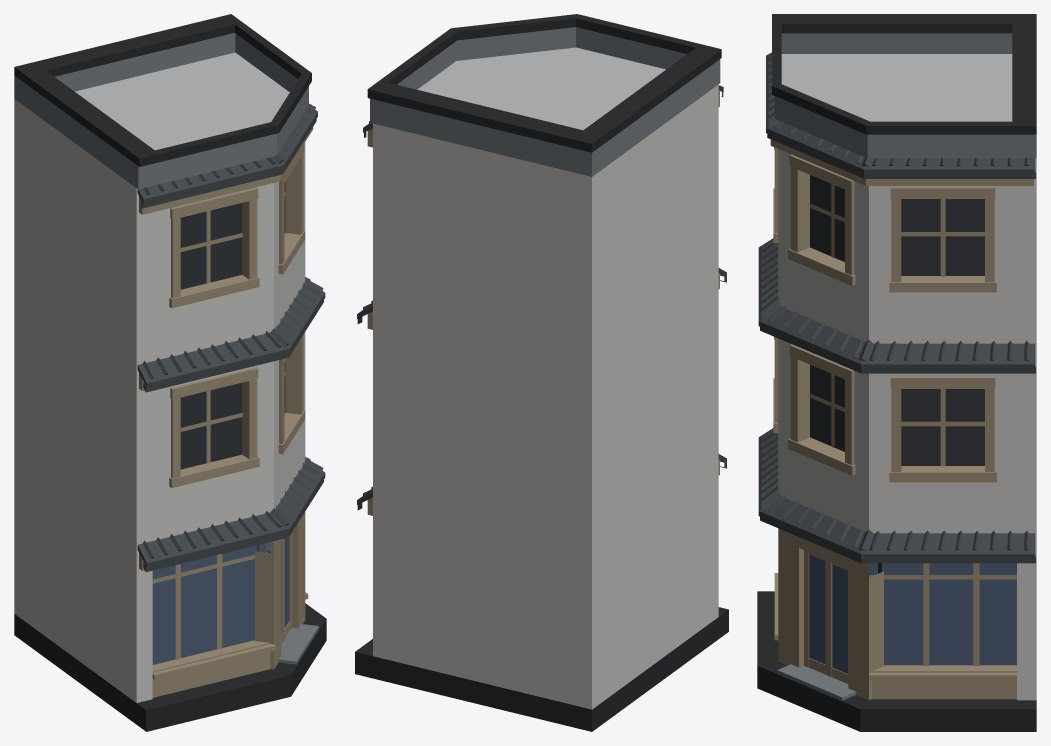
Rendered from corner-shophouse-ad15c2.glb.
The picture shows the model from 3 angles, left to right: view 1: azimuth 30°, elevation 25°; view 2: azimuth 150°, elevation 25°; view 3: azimuth 270°, elevation 25°; orthographic projection. The views are drawn at different scales.
Visible parts, largest first — view 1: shophouse-shell, door-r-leaf; view 2: shophouse-shell; view 3: shophouse-shell, door-l-leaf, door-r-leaf.
Boxes of the visible parts, x1,y1,x2,y2 form: shophouse-shell: [14, 14, 326, 731]; door-r-leaf: [283, 532, 292, 640]; shophouse-shell: [355, 14, 728, 731]; shophouse-shell: [757, 14, 1036, 731]; door-l-leaf: [804, 550, 828, 675]; door-r-leaf: [828, 560, 848, 683].
Bounding box in the file's own units: 4 × 9.48 × 4.
